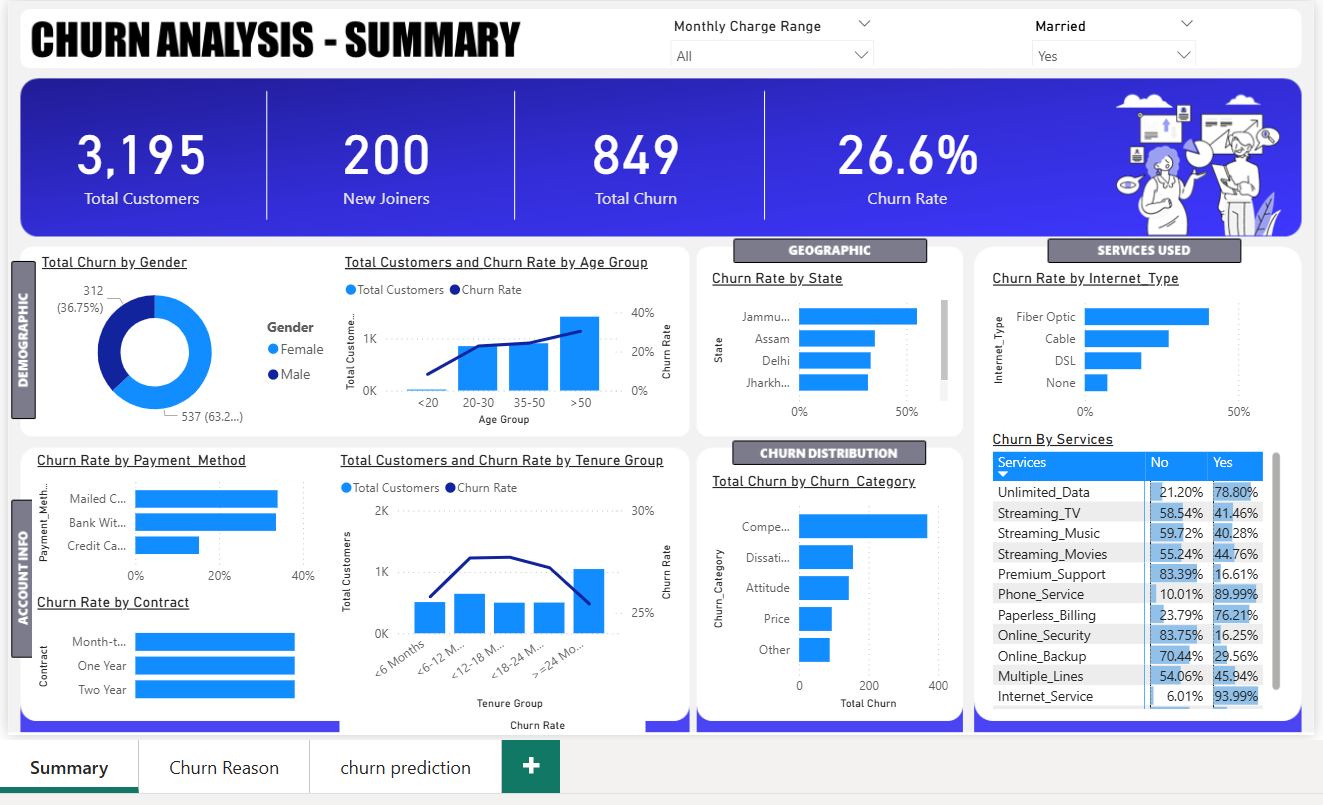

What the dashboard file says about the page in this screenshot:
{"tool":"powerbi","page":{"name":"Summary","canvas":[1280,720],"ordinal":0},"visuals":[{"type":"card","fields":{"Values":["tbl_Measures.Total Customers"]},"box":[41.2,88.2,179.4,132.4],"z":0},{"type":"card","fields":{"Values":["tbl_Measures.New Joiners"]},"box":[276.5,88.2,188.2,132.4],"z":1000},{"type":"card","fields":{"Values":["tbl_Measures.Total Churn"]},"box":[519.1,88.2,192.6,132.4],"z":2000},{"type":"card","fields":{"Values":["tbl_Measures.Churn Rate"]},"box":[780.9,88.2,201.5,132.4],"z":3000},{"type":"donutChart","fields":{"Category":["db_churn prod_churn.Gender"],"Y":["tbl_Measures.Total Churn"]},"box":[27.9,247.1,297.1,177.9],"z":4000},{"type":"lineStackedColumnComboChart","fields":{"Category":["mapping_AgeGrp.Age Group"],"Y":["tbl_Measures.Total Customers"],"Y2":["tbl_Measures.Churn Rate"]},"box":[325,247.1,330.9,173.5],"z":5000},{"type":"clusteredBarChart","fields":{"Category":["db_churn prod_churn.Payment_Method"],"Y":["tbl_Measures.Churn Rate"]},"box":[23.5,441.2,282.4,139.7],"z":6000},{"type":"clusteredBarChart","fields":{"Category":["db_churn prod_churn.Contract"],"Y":["tbl_Measures.Churn Rate"]},"box":[325,504.4,300,216.2],"z":7000},{"type":"lineStackedColumnComboChart","fields":{"Category":["mapping_TenureGrp.Tenure Group"],"Y":["tbl_Measures.Total Customers"],"Y2":["tbl_Measures.Churn Rate"]},"box":[320.6,441.2,335.3,257.4],"z":8000},{"type":"clusteredBarChart","fields":{"Category":["db_churn prod_churn.State"],"Y":["tbl_Measures.Churn Rate"]},"box":[685.3,263.2,241.2,157.4],"z":9000},{"type":"clusteredBarChart","fields":{"Category":["db_churn prod_churn.Churn_Category"],"Y":["tbl_Measures.Total Churn"]},"box":[685.3,461.8,241.2,236.8],"z":10000},{"type":"clusteredBarChart","fields":{"Category":["db_churn prod_churn.Internet_Type"],"Y":["tbl_Measures.Churn Rate"]},"box":[960.3,263.2,292.6,157.4],"z":11000},{"type":"pivotTable","title":"Churn By Services","fields":{"Rows":["prod_Services.Services"],"Columns":["prod_Services.Status"],"Values":["Sum(prod_Services.Churn Status)"]},"box":[960.3,420.6,292.6,277.9],"z":12000},{"type":"slicer","fields":{"Values":["db_churn prod_churn.Monthly Charge Status"]},"box":[639.7,10.3,219.1,52.9],"z":13000},{"type":"slicer","fields":{"Values":["db_churn prod_churn.Married"]},"box":[994.1,10.3,180.9,52.9],"z":14000},{"type":"clusteredBarChart","fields":{"Category":["prod_Services.Contract"],"Y":["tbl_Measures.Churn Rate"]},"box":[23.5,580.9,282.4,117.6],"z":14001}]}

Visuals, with their boxes on the page's 1280x720 design canvas (x1, y1, x2, y2). These are canvas units, not pixel positions in the 1323x805 screenshot, which may show the page scaled, cropped or inside an application window:
card - tbl_Measures.Total Customers: bbox=(41, 88, 221, 221)
card - tbl_Measures.New Joiners: bbox=(276, 88, 465, 221)
card - tbl_Measures.Total Churn: bbox=(519, 88, 712, 221)
card - tbl_Measures.Churn Rate: bbox=(781, 88, 982, 221)
donutChart - db_churn prod_churn.Gender x tbl_Measures.Total Churn: bbox=(28, 247, 325, 425)
lineStackedColumnComboChart - mapping_AgeGrp.Age Group x tbl_Measures.Total Customers: bbox=(325, 247, 656, 421)
clusteredBarChart - db_churn prod_churn.Payment_Method x tbl_Measures.Churn Rate: bbox=(24, 441, 306, 581)
clusteredBarChart - db_churn prod_churn.Contract x tbl_Measures.Churn Rate: bbox=(325, 504, 625, 721)
lineStackedColumnComboChart - mapping_TenureGrp.Tenure Group x tbl_Measures.Total Customers: bbox=(321, 441, 656, 699)
clusteredBarChart - db_churn prod_churn.State x tbl_Measures.Churn Rate: bbox=(685, 263, 926, 421)
clusteredBarChart - db_churn prod_churn.Churn_Category x tbl_Measures.Total Churn: bbox=(685, 462, 926, 699)
clusteredBarChart - db_churn prod_churn.Internet_Type x tbl_Measures.Churn Rate: bbox=(960, 263, 1253, 421)
"Churn By Services" pivotTable: bbox=(960, 421, 1253, 698)
slicer - db_churn prod_churn.Monthly Charge Status: bbox=(640, 10, 859, 63)
slicer - db_churn prod_churn.Married: bbox=(994, 10, 1175, 63)
clusteredBarChart - prod_Services.Contract x tbl_Measures.Churn Rate: bbox=(24, 581, 306, 698)
